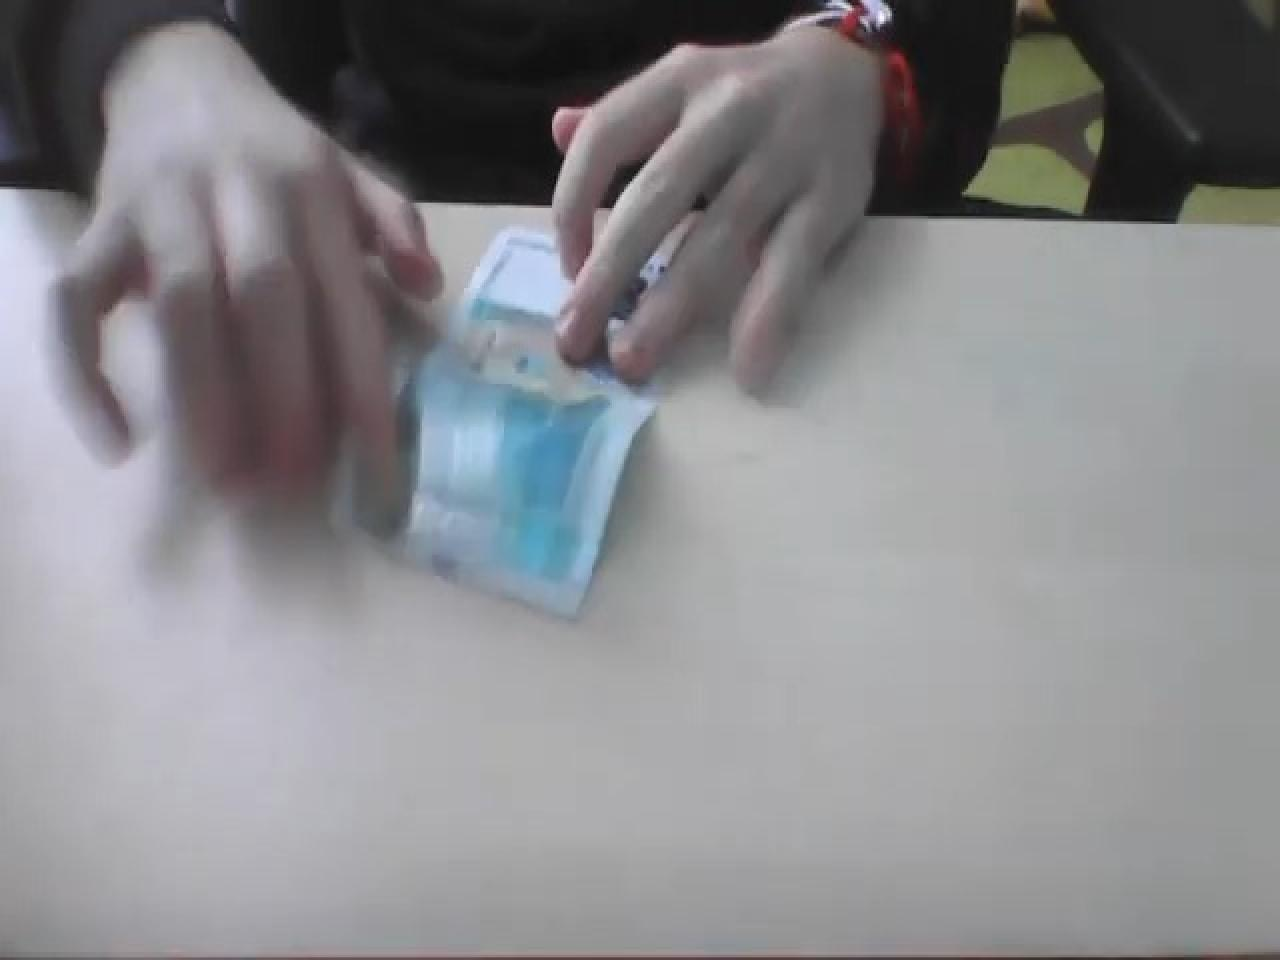100leva: (368, 222, 660, 621)
